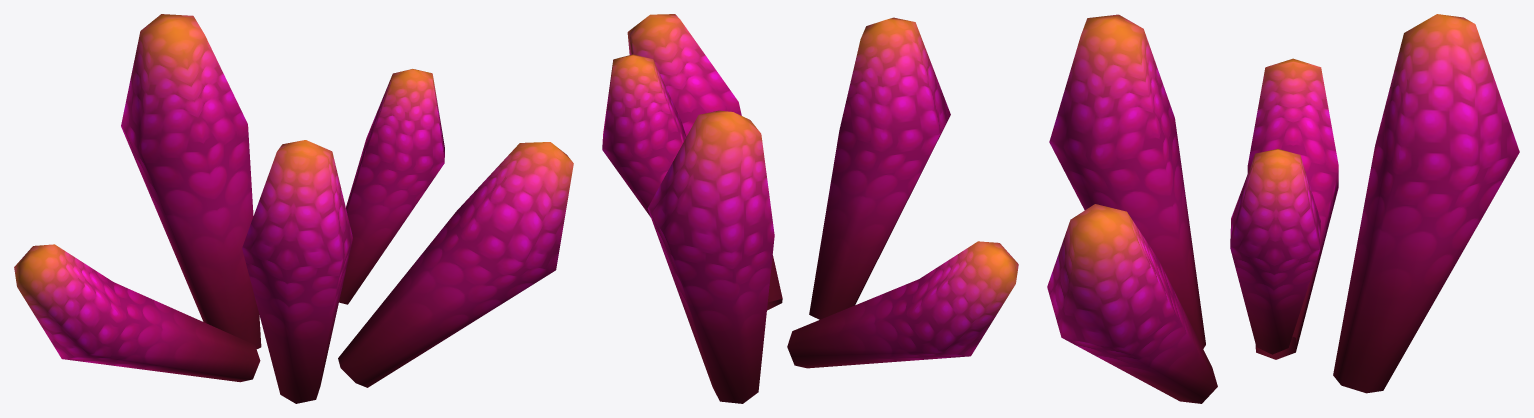
File: Coral_11a.FBX
3 views of the same model, side by side, from view 1: azimuth 30°, elevation 25°; view 2: azimuth 150°, elevation 25°; view 3: azimuth 270°, elevation 25° (orthographic). The views are drawn at different scales.
Visible parts, largest first — view 1: Coral_11a; view 2: Coral_11a; view 3: Coral_11a.
Part boxes in pixels (left/top/right/bottom): Coral_11a: left=14, top=14, right=573, bottom=403; Coral_11a: left=602, top=14, right=1018, bottom=403; Coral_11a: left=1047, top=14, right=1519, bottom=403.
Bounding box in the file's own units: 26.74 × 17.21 × 20.66.
